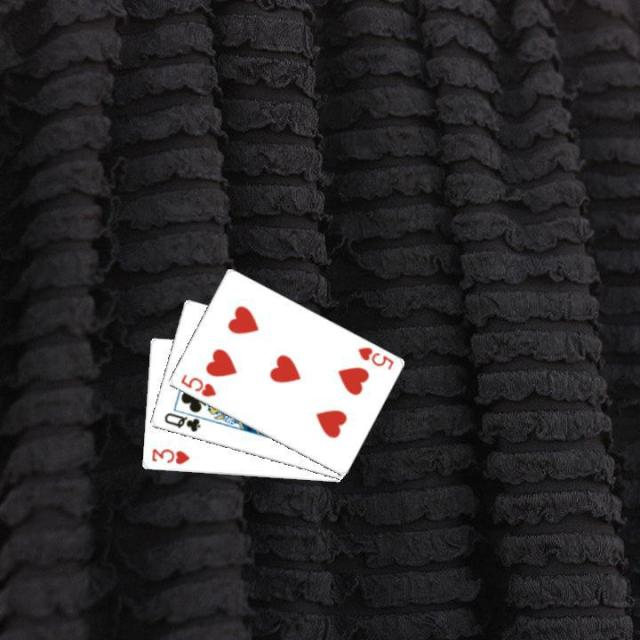3H: (148, 444, 191, 466)
5H: (176, 370, 218, 399), (353, 343, 395, 372)
QC: (160, 409, 202, 434)
